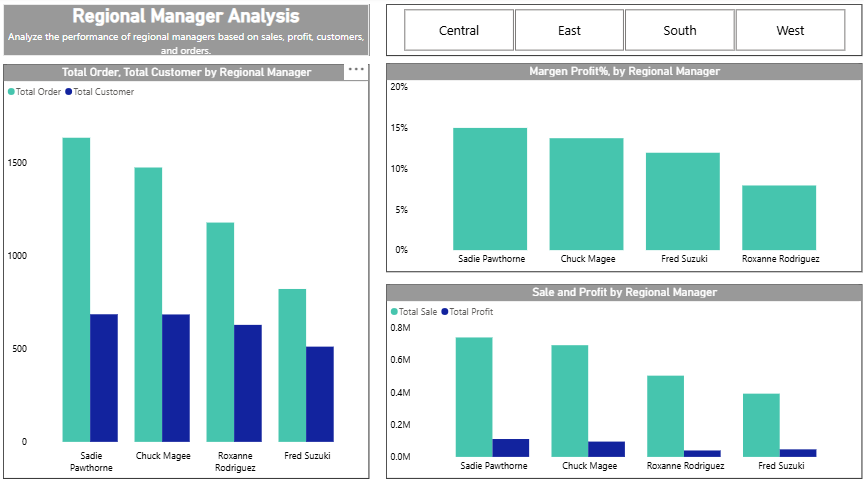

The page's visual inventory and layout, read from the dashboard file:
{"tool":"powerbi","page":{"name":"Regional Manager Analysis","canvas":[1280,720],"ordinal":4},"visuals":[{"type":"clusteredColumnChart","title":"Sale and Profit by Regional Manager","fields":{"Y":["Orders.Total Sale","Orders.Total Profit"],"Category":["People.Regional Manager"]},"box":[573.7,420,696.6,285.4],"z":0},{"type":"clusteredColumnChart","title":"Total Order, Total Customer by Regional Manager","fields":{"Y":["Orders.Total Order","Orders.Total Customer"],"Category":["People.Regional Manager"]},"box":[13.2,98,535.6,607.3],"z":1000},{"type":"clusteredColumnChart","title":"Margen Profit%,  by Regional Manager","fields":{"Category":["People.Regional Manager"],"Y":["Orders.Margen Profit%"]},"box":[573.7,96.6,696.6,305.9],"z":2000},{"type":"textbox","title":"Regional Manager Analysis","box":[13.2,10.2,535.6,76.1],"z":3000},{"type":"slicer","fields":{"Values":["Orders.Region"]},"box":[573.7,10.2,696.6,76.1],"z":4000}]}

Visuals, with their boxes in screenshot pixels (x1, y1, x2, y2), scaled from the page's 1280x720 canvas onto the 864x482 screenshot:
"Sale and Profit by Regional Manager" clusteredColumnChart: select_region(387, 281, 857, 472)
"Total Order, Total Customer by Regional Manager" clusteredColumnChart: select_region(9, 66, 370, 472)
"Margen Profit%,  by Regional Manager" clusteredColumnChart: select_region(387, 65, 857, 269)
"Regional Manager Analysis" textbox: select_region(9, 7, 370, 58)
slicer - Orders.Region: select_region(387, 7, 857, 58)
